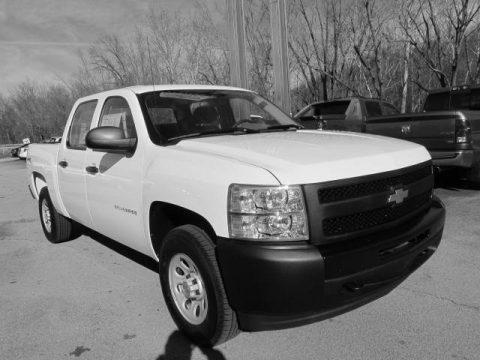car: (25, 83, 447, 350)
